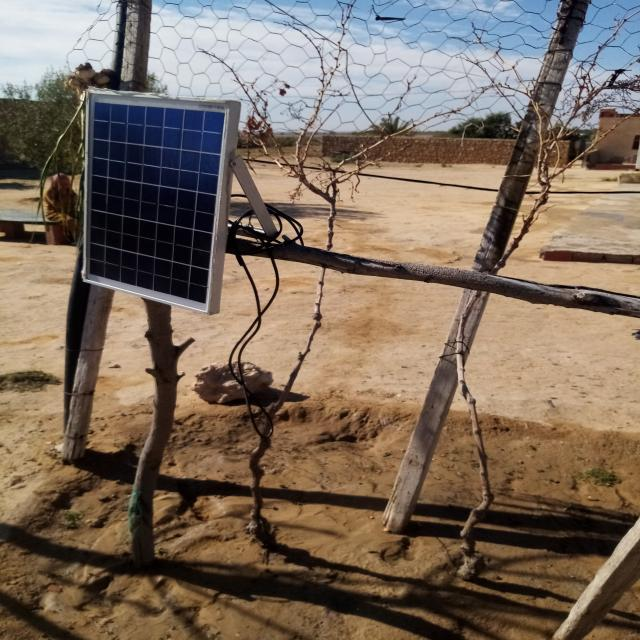no faulty: (84, 91, 228, 313)
